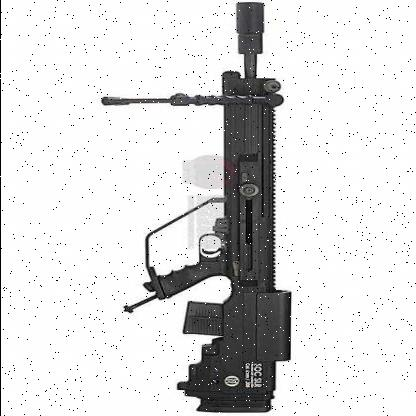rifle: (105, 3, 306, 416)
